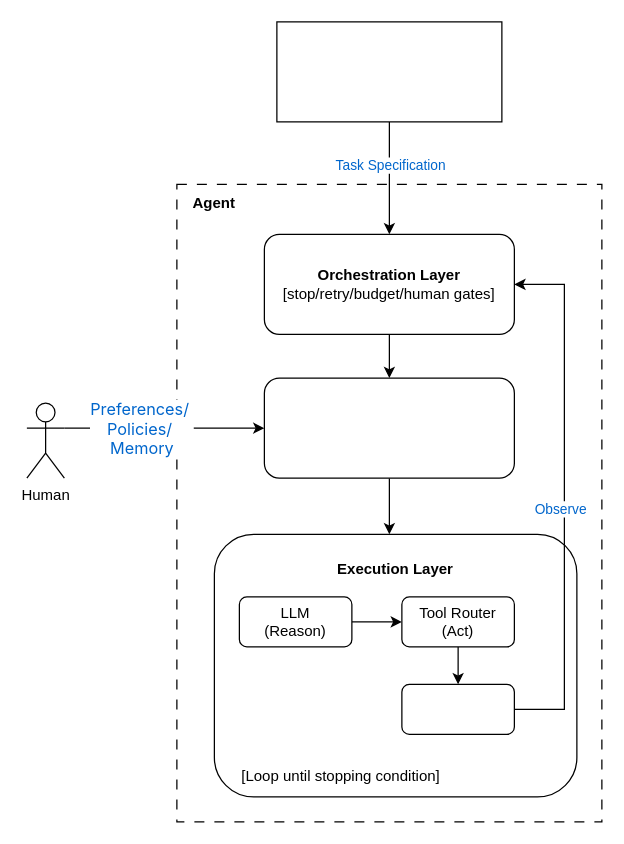
Some shapes in this 624 by 844 pixel diagram are drawn without their labels. Here are the shapes that lost their labels. From the top down, the centre of each, then its label:
At [389,71]: "Perception Layer [UI, Sensors, etc]".
At [388,427]: "Context Layer [Goals + History + Memory]".
At [457,708]: "Tool Results (Observe)".
